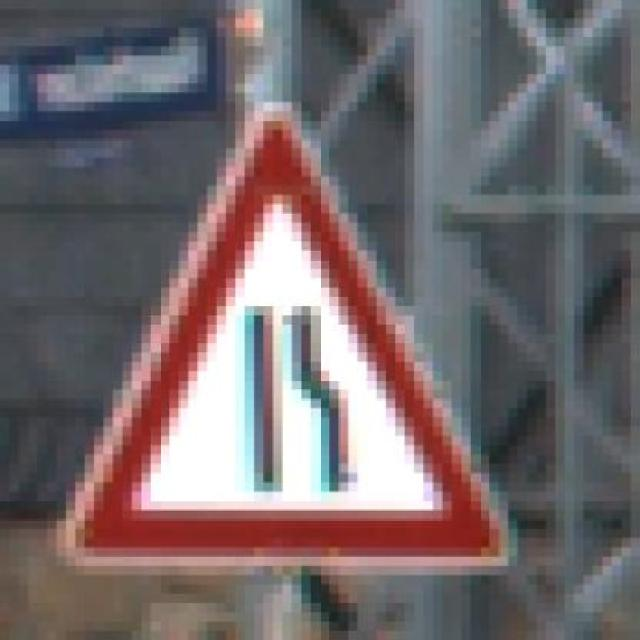-Road narrows on right: (51, 83, 522, 575)
